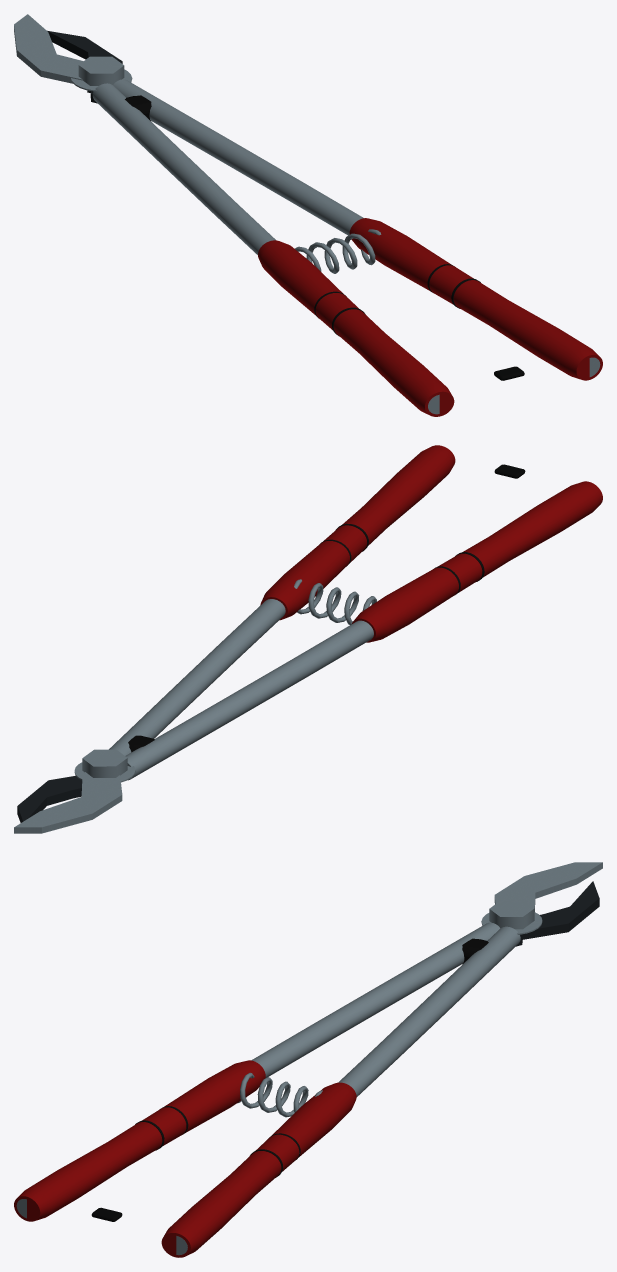
File: Loppers.gltf
The picture shows the model from 3 angles, top to bottom: view 1: azimuth 30°, elevation 25°; view 2: azimuth 150°, elevation 25°; view 3: azimuth 330°, elevation 25°; orthographic projection.
Visible parts, largest first — view 1: Loppers__Body; view 2: Loppers__Body; view 3: Loppers__Body.
Boxes of the visible parts, x1,y1,x2,y2 form: Loppers__Body: (14,14,602,416); Loppers__Body: (14,445,602,833); Loppers__Body: (14,862,602,1257).
Size of the model in its own units: 0.1708 by 0.0308 by 0.8128.
Materials: 1 (1 with a texture image).
